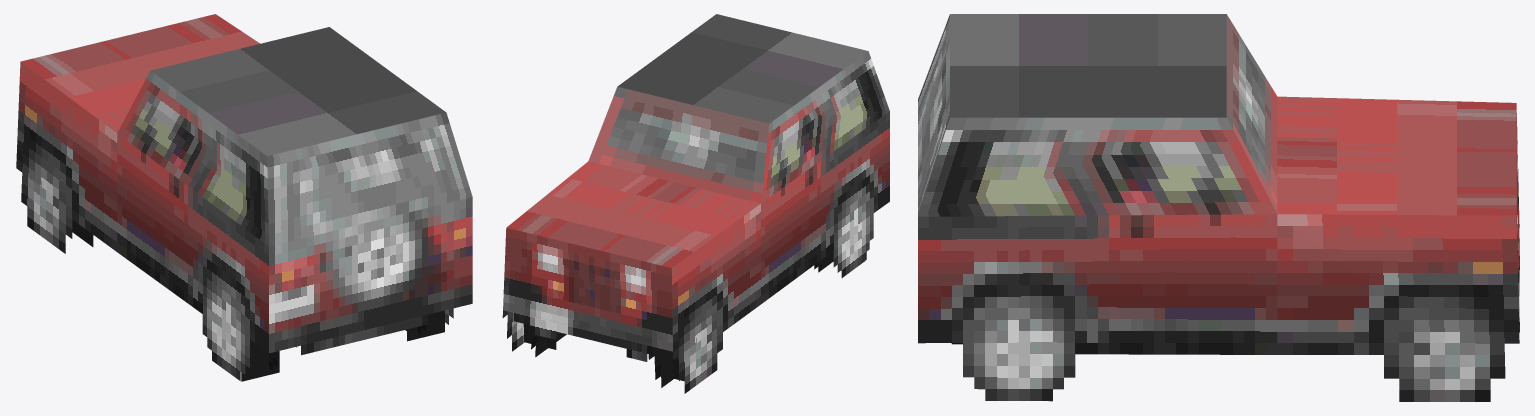
Rendered from car-jeep-plt2.glb.
3 views of the same model, side by side, from view 1: azimuth 30°, elevation 25°; view 2: azimuth 150°, elevation 25°; view 3: azimuth 270°, elevation 25° (orthographic). The views are drawn at different scales.
Visible parts, largest first — view 1: car-jeep-plt2; view 2: car-jeep-plt2; view 3: car-jeep-plt2.
Boxes of the visible parts, x1,y1,x2,y2 form: car-jeep-plt2: (16,14,472,381); car-jeep-plt2: (502,14,889,393); car-jeep-plt2: (918,14,1519,401).
Size of the model in its own units: 1.5 by 1.65 by 3.25.
13 materials, 13 textured.
